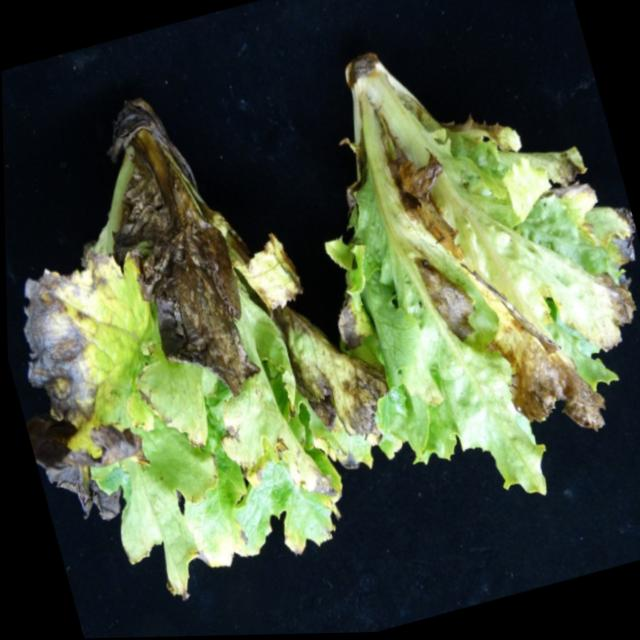Bad: (24, 118, 351, 597), (325, 54, 635, 492), (113, 108, 259, 396), (23, 253, 150, 426), (271, 307, 387, 444), (492, 317, 604, 429), (25, 418, 100, 515), (597, 275, 635, 326), (97, 492, 119, 516), (348, 322, 353, 329)
